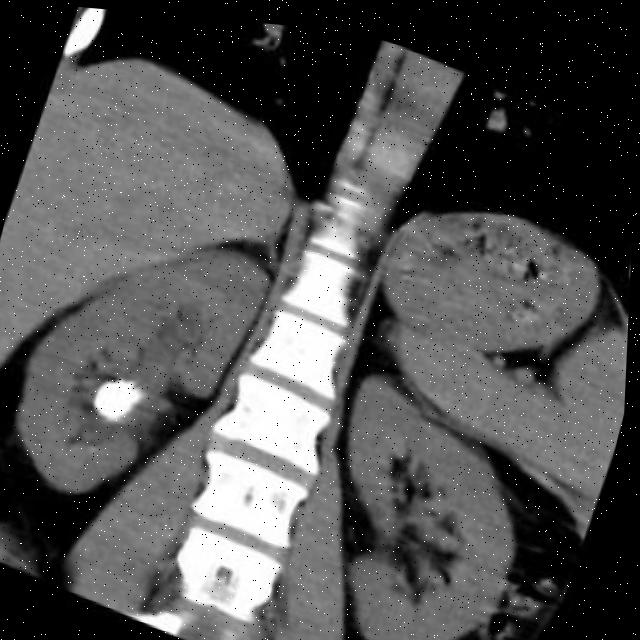Tas_Var: (83, 351, 160, 446), (89, 439, 106, 456)
